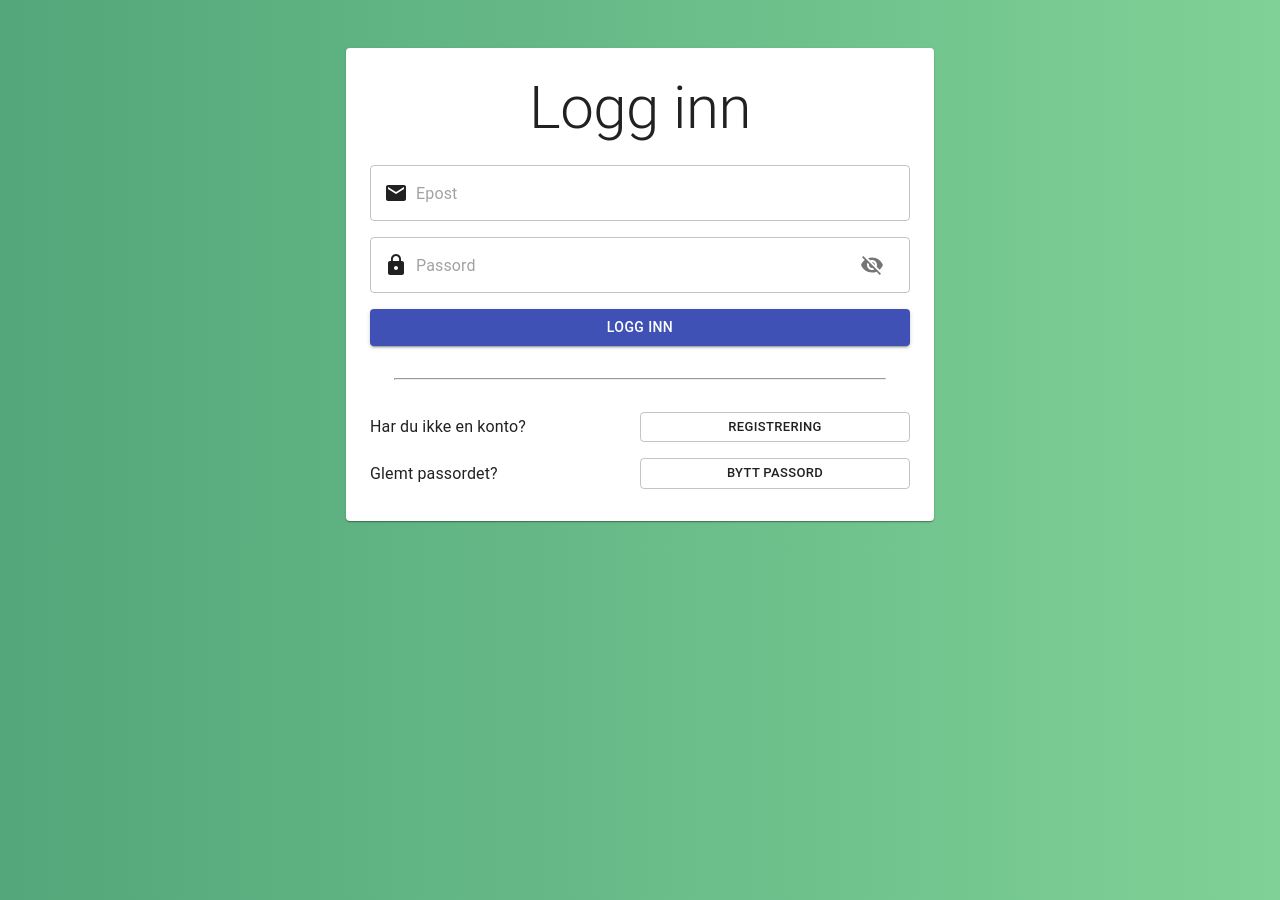
Test: The Login component › should show an error message when credentials are not found on the database
The width and height of the screenshot is (1280, 900).
Type "test@lim.no" into the field with placeholder "Epost" at (663, 193), box [416, 165, 910, 221]
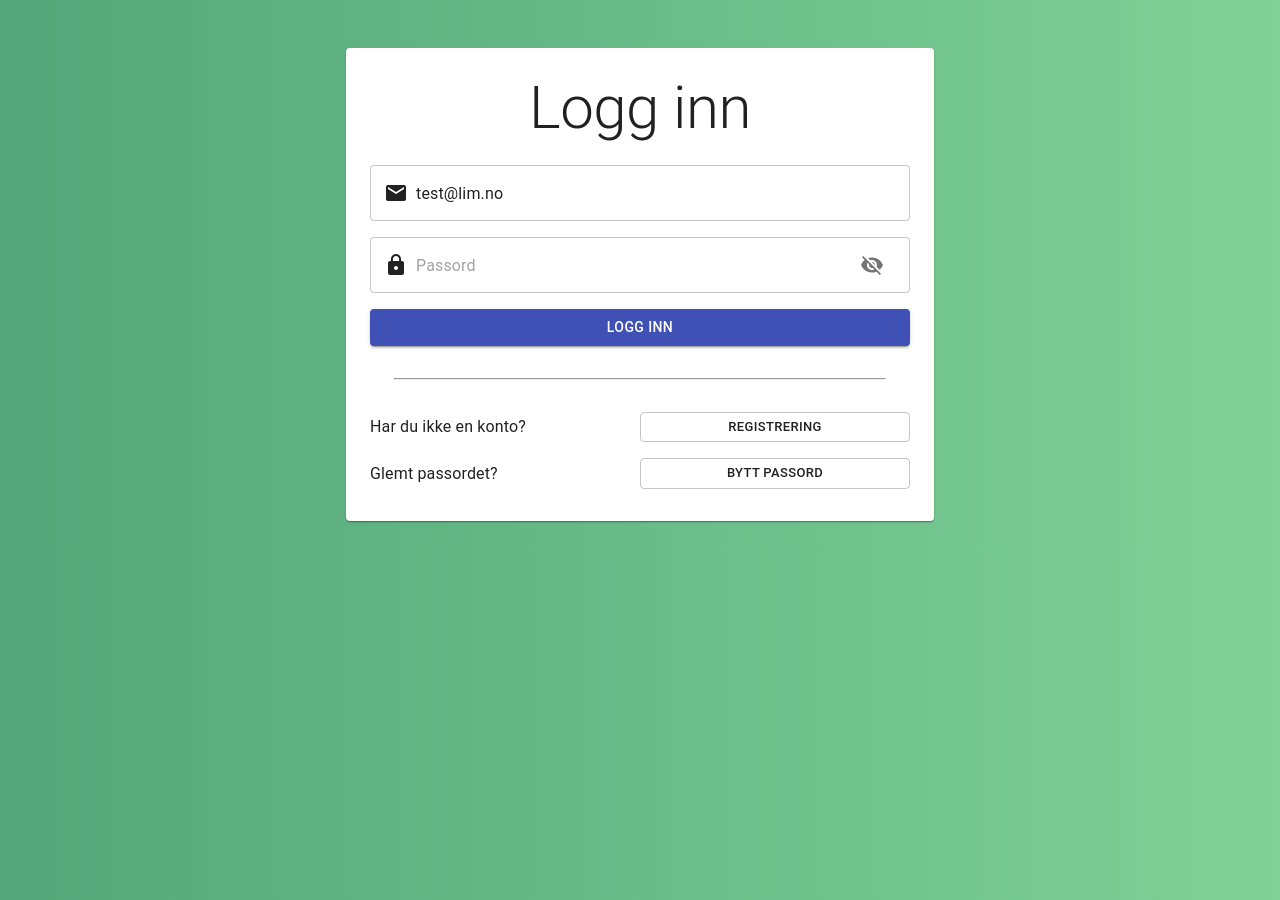
Type "Sometext" into the password field with placeholder "Passord" at (628, 265), box [416, 237, 840, 293]
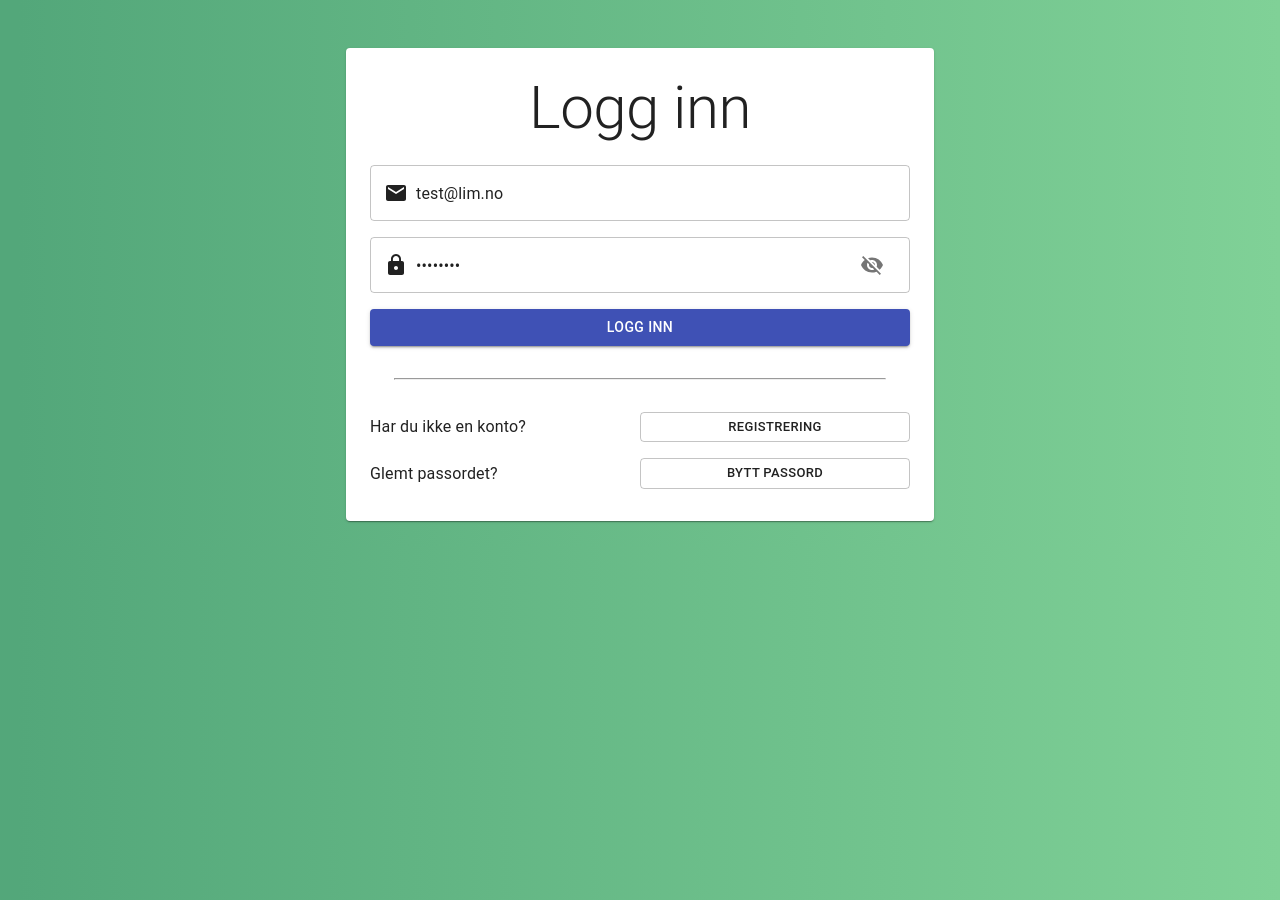
Click the button with test id "LoggInnButton" at (640, 327), box [370, 309, 910, 346]
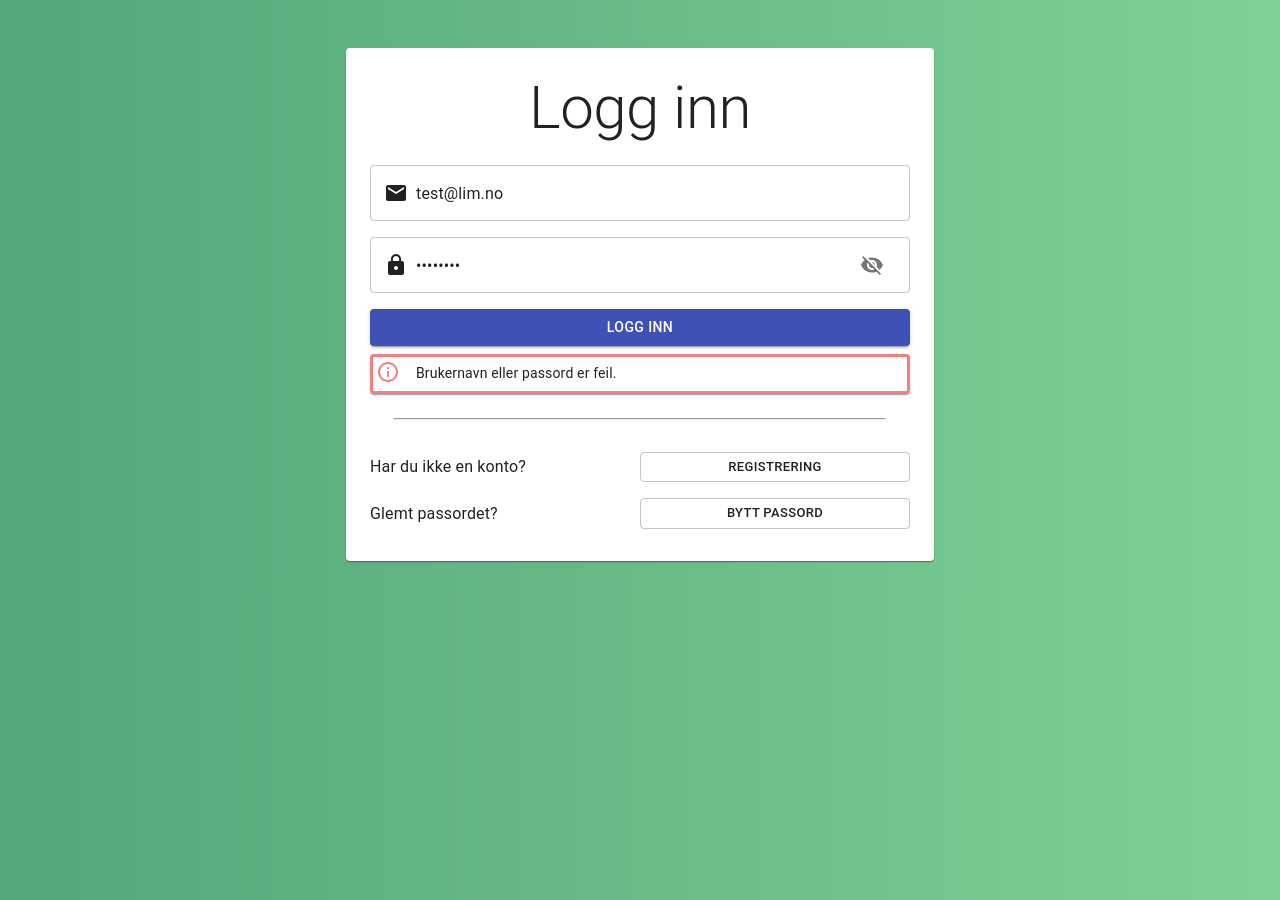
Check: the text "Brukernavn eller passord er feil." is shown, box [416, 366, 616, 382]
